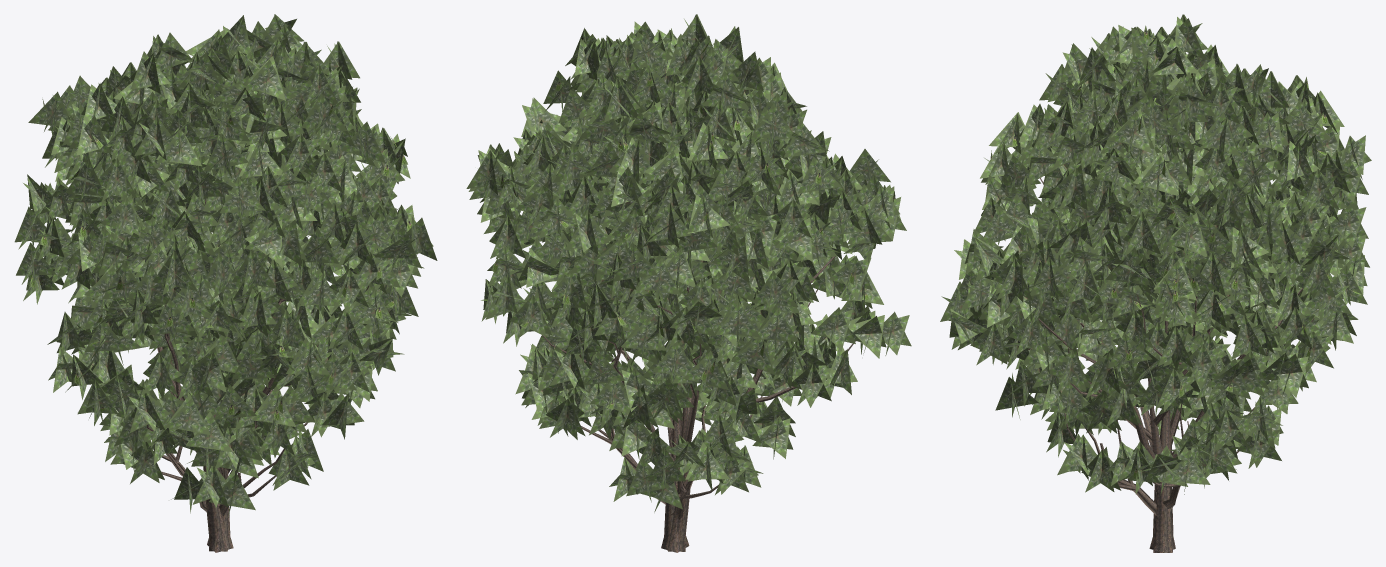
Rendered from Carya_Ovalis_Spring_Adult.glb.
3 views of the same model, side by side, from view 1: azimuth 30°, elevation 25°; view 2: azimuth 150°, elevation 25°; view 3: azimuth 270°, elevation 25° (orthographic).
Visible parts, largest first — view 1: Carya_Ovalis_Spring_Adult__LOD3; view 2: Carya_Ovalis_Spring_Adult__LOD3; view 3: Carya_Ovalis_Spring_Adult__LOD3.
Part boxes in pixels (x1,y1,x2,y2): Carya_Ovalis_Spring_Adult__LOD3: [14, 14, 437, 552]; Carya_Ovalis_Spring_Adult__LOD3: [466, 14, 911, 552]; Carya_Ovalis_Spring_Adult__LOD3: [940, 14, 1371, 552].
Bounding box in the file's own units: 13.25 × 17.53 × 13.22.
2 materials, 2 textured.
